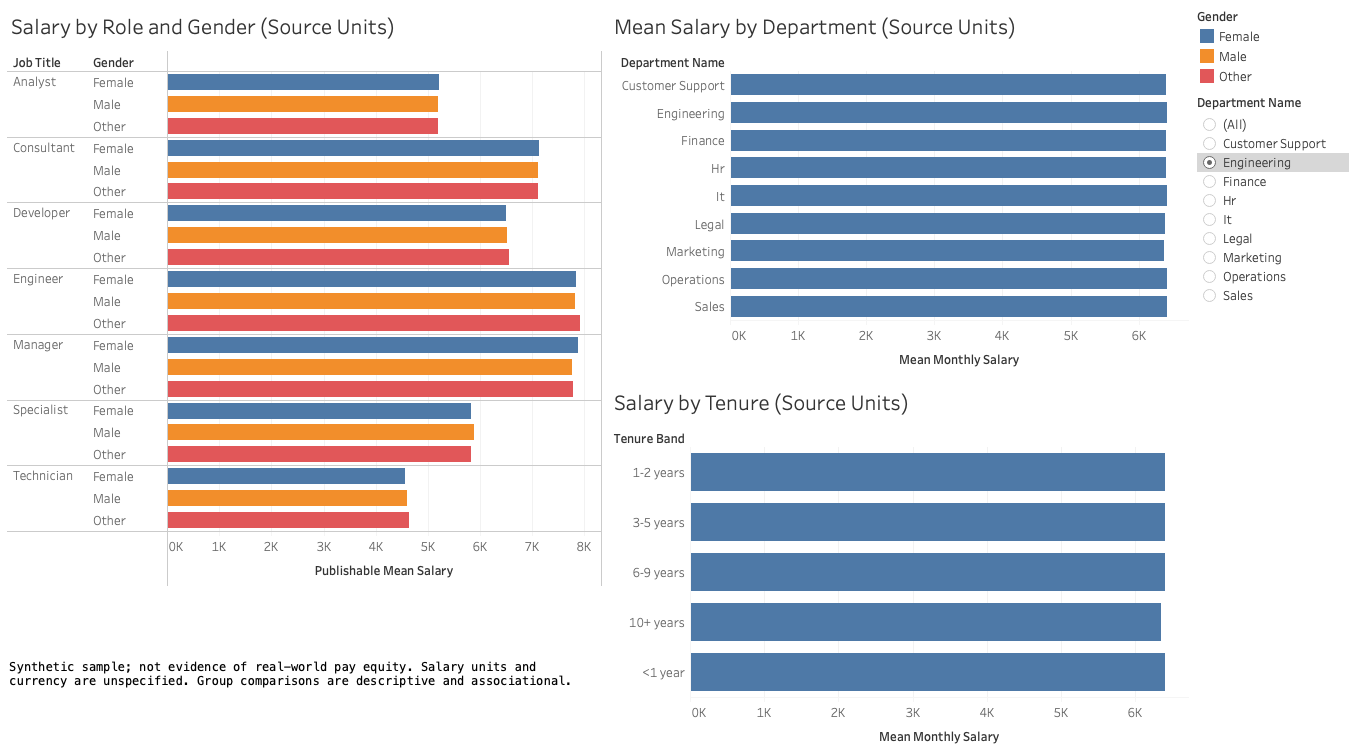

The dashboard page shown, as its layout file describes it:
{"tool":"tableau","page":{"name":"Compensation Equity","canvas":[1366,768],"ordinal":1},"visuals":[{"type":"worksheet","title":"Salary by Role and Gender (Source Units)","mark":"Automatic","rows":["job_title","gender"],"cols":["publishable_mean_salary"],"box":[8,8,603,587]},{"type":"worksheet","title":"Mean Salary by Department (Source Units)","mark":"Automatic","rows":["department_name"],"cols":["mean_monthly_salary"],"box":[611,8,587,376]},{"type":"legend","title":"Salary by Role and Gender (Source Units)","param":"[federated.073odgz0qtlkif14ad45o0oiwg75].[none:gender:nk]","box":[1198,8,160,86]},{"type":"filter","title":"Salary by Role and Gender (Source Units)","param":"[federated.073odgz0qtlkif14ad45o0oiwg75].[none:department_name:nk]","box":[1198,94,160,222]},{"type":"worksheet","title":"Salary by Tenure (Source Units)","mark":"Automatic","rows":["tenure_band"],"cols":["mean_monthly_salary"],"box":[611,384,587,376]},{"type":"text","box":[8,595,603,165]}]}

Visuals, with their boxes in screenshot pixels (x1, y1, x2, y2), scaled from the page's 1366x768 canvas onto the 1356x756 screenshot:
"Salary by Role and Gender (Source Units)" worksheet: (x1=8, y1=8, x2=607, y2=586)
"Mean Salary by Department (Source Units)" worksheet: (x1=607, y1=8, x2=1189, y2=378)
"Salary by Role and Gender (Source Units)" legend: (x1=1189, y1=8, x2=1348, y2=93)
"Salary by Role and Gender (Source Units)" filter: (x1=1189, y1=93, x2=1348, y2=311)
"Salary by Tenure (Source Units)" worksheet: (x1=607, y1=378, x2=1189, y2=748)
text: (x1=8, y1=586, x2=607, y2=748)
